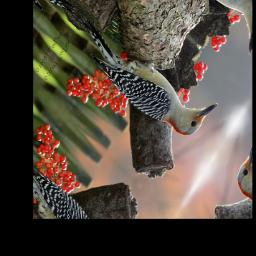Woodpecker: (64, 0, 223, 157)
